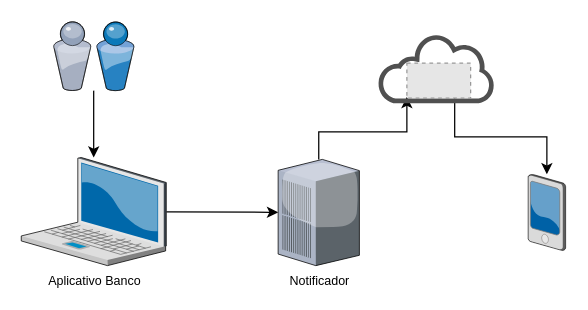
Some shapes in this 588 by 310 pixel diagram are drawn without their labels. Grey dashed boxes stand in for pictures. Here are the shapes that lost their labels. From the top down, the box of each, then its label:
(53, 21, 133, 90): Usuario
(528, 174, 565, 250): Móvil
